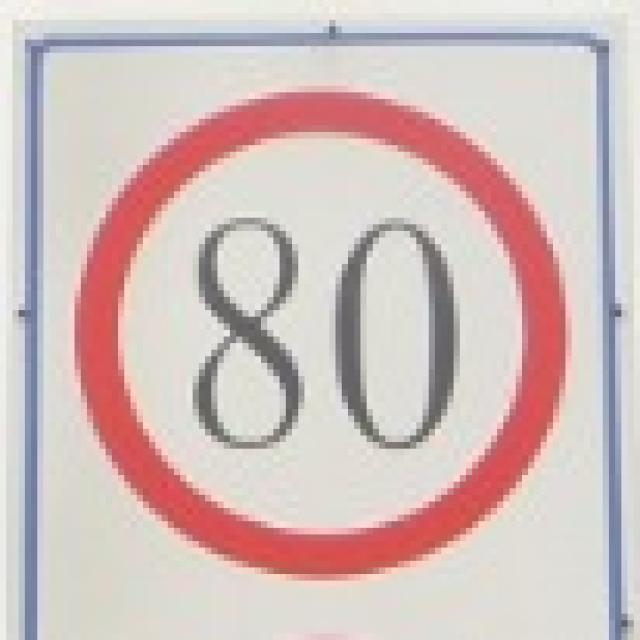Speed Limit -80-: (187, 214, 462, 459)
